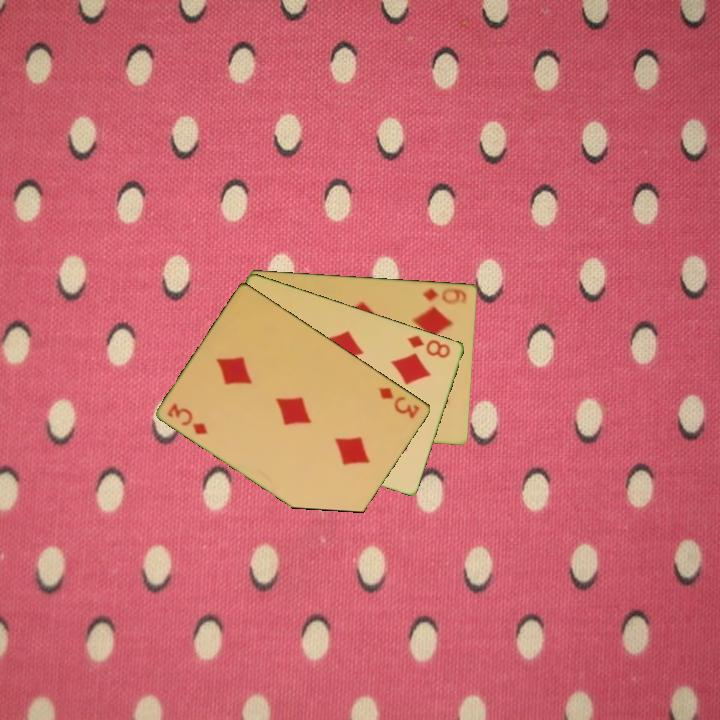3d: (376, 383, 423, 422), (164, 400, 212, 438)
6d: (420, 284, 469, 307)
8d: (404, 331, 454, 361)
